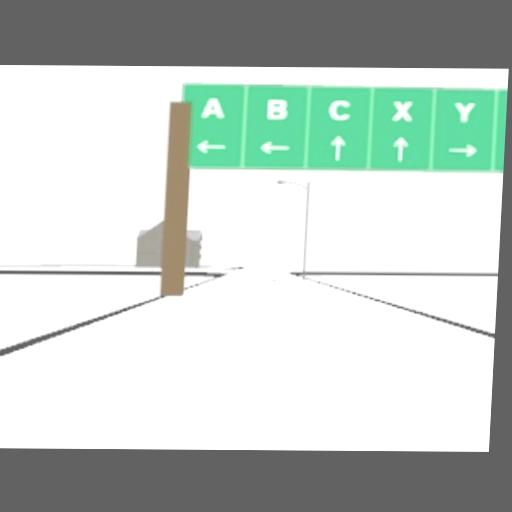A: (200, 95, 225, 118)
B: (265, 98, 288, 119)
C: (328, 98, 351, 119)
Left: (195, 138, 226, 153), (257, 139, 290, 153)
Right: (446, 142, 477, 157)
Straight: (330, 133, 347, 159), (393, 135, 408, 159)
X: (391, 98, 414, 120)
Y: (451, 101, 475, 122)
